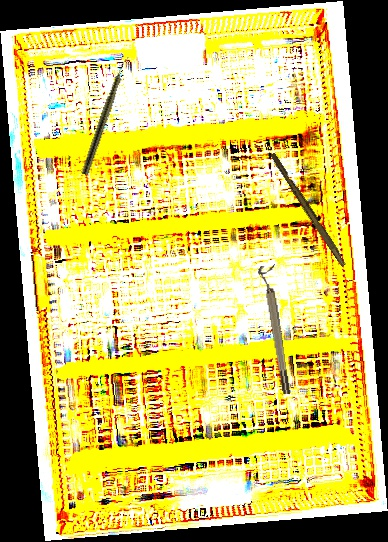Fixation Ring: (257, 264, 293, 396)
Handpiece: (80, 54, 131, 177)
Scalpel Handle: (267, 151, 350, 268)
